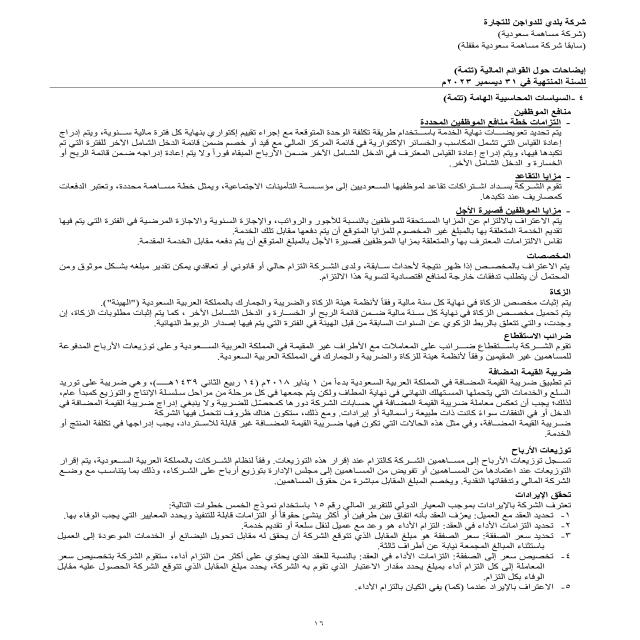notes: (455, 63, 593, 79)
text: (42, 102, 580, 606)
